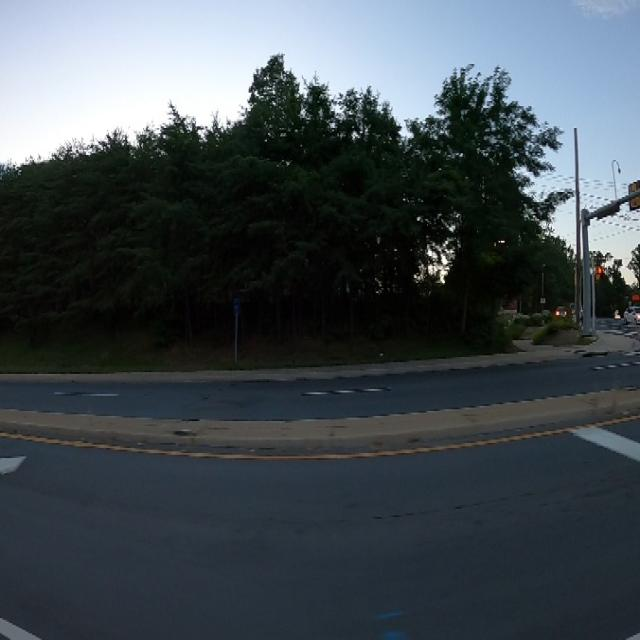cars: (551, 300, 569, 325), (626, 301, 640, 332), (568, 300, 586, 319), (614, 302, 622, 330)
